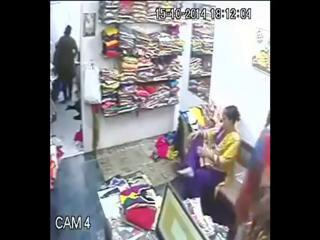Normal: (174, 106, 242, 214), (232, 111, 270, 239), (52, 24, 78, 104)
